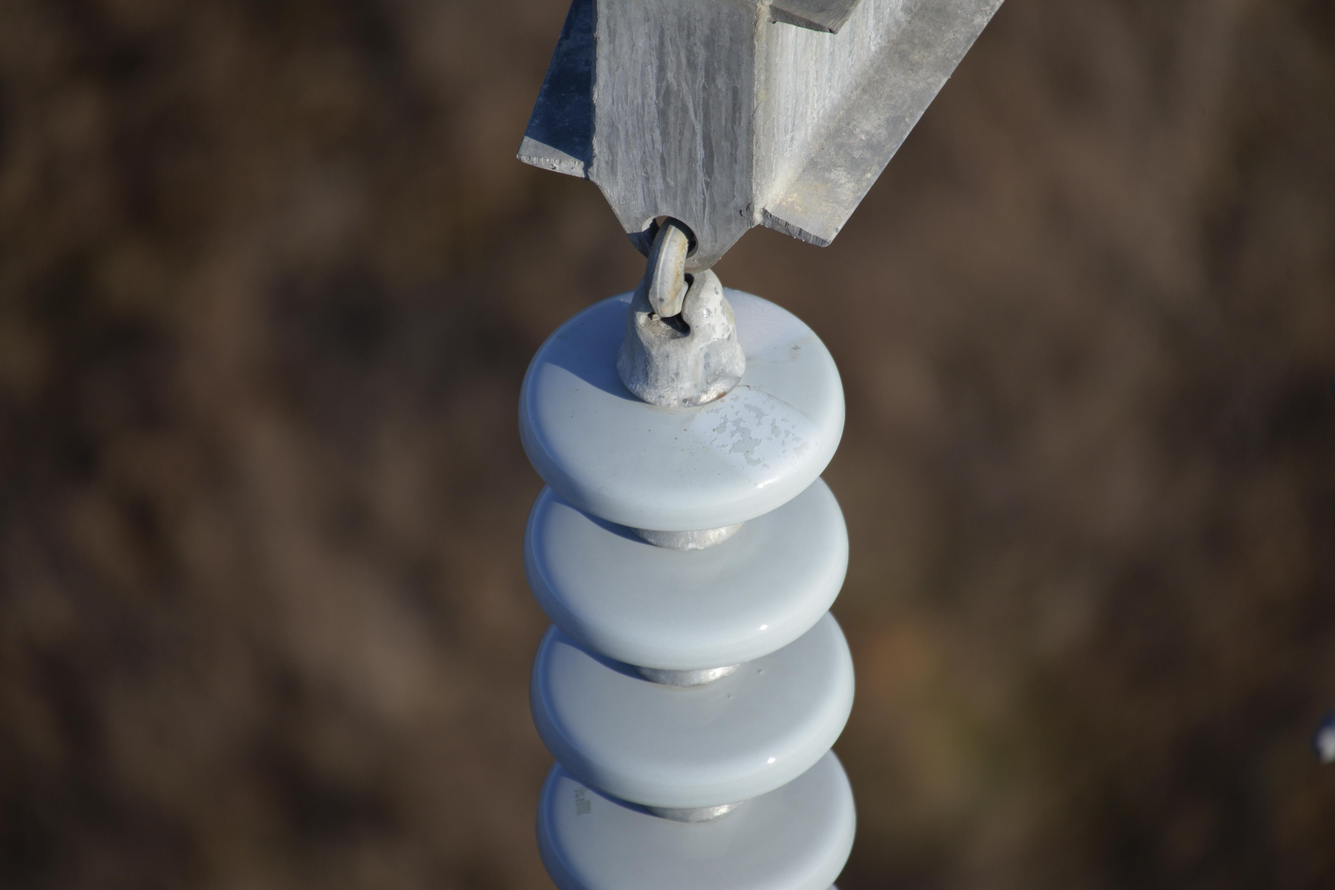Flashover: (689, 376, 820, 480)
insulator: (520, 280, 858, 890)
